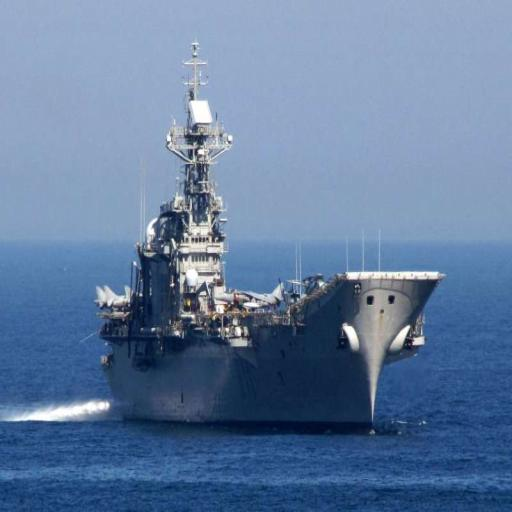Portanaves: (94, 36, 448, 440)
